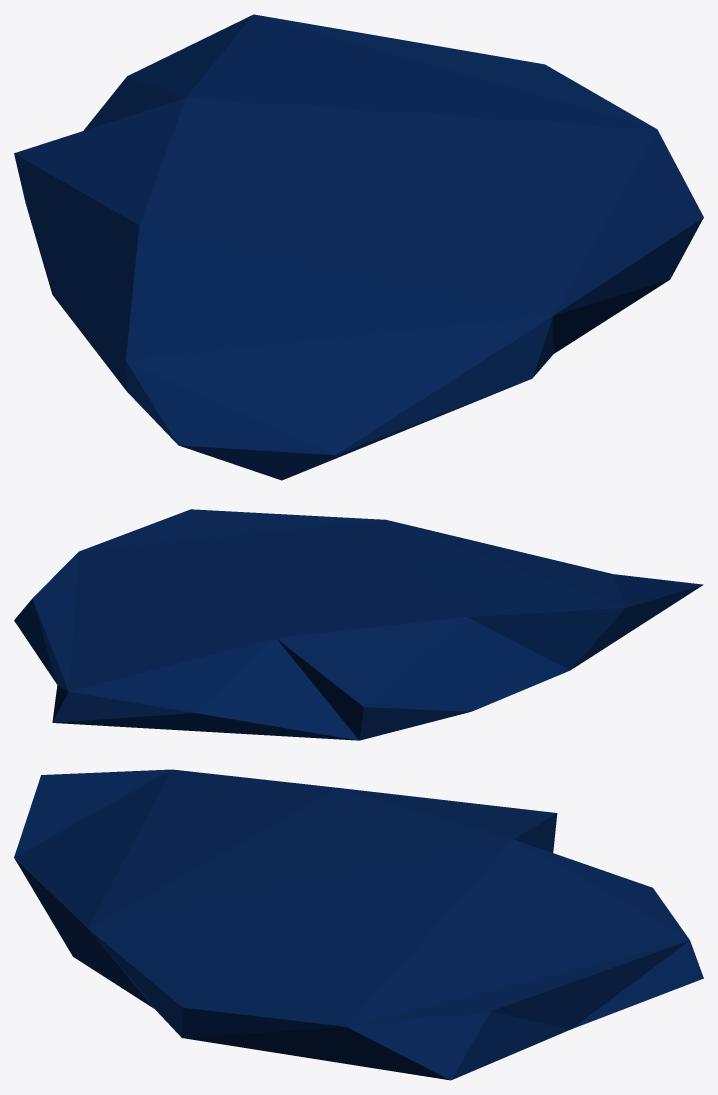
The model's file is Cave_stone_18.glb.
The picture shows the model from 3 angles, top to bottom: view 1: azimuth 30°, elevation 25°; view 2: azimuth 150°, elevation 25°; view 3: azimuth 270°, elevation 25°; orthographic projection. The views are drawn at different scales.
Parts seen in each view (by area): view 1: Cave_stone_18; view 2: Cave_stone_18; view 3: Cave_stone_18.
Boxes of the visible parts, x1,y1,x2,y2 form: Cave_stone_18: [14, 14, 703, 480]; Cave_stone_18: [14, 509, 703, 740]; Cave_stone_18: [14, 769, 703, 1080].
Size of the model in its own units: 1.28 by 0.2533 by 1.35.
